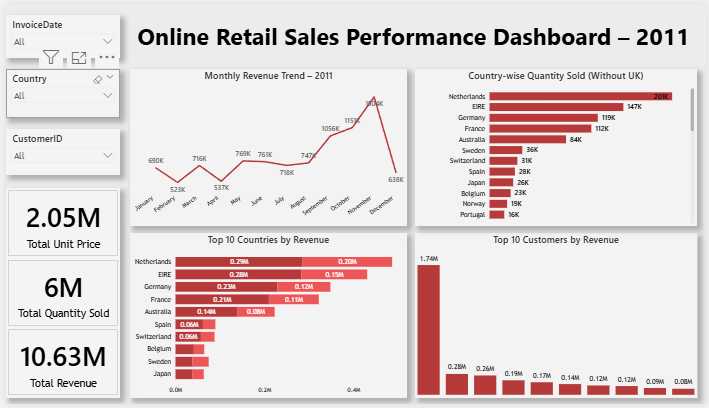

The dashboard page shown, as its layout file describes it:
{"tool":"powerbi","page":{"name":"Revenue & Customer Insights","canvas":[1400,800],"ordinal":0},"visuals":[{"type":"lineChart","title":"Monthly Revenue Trend – 2011","fields":{"Y":["Sum(Online Retail.Revenue)"],"Category":["Online Retail.InvoiceDate.Variation.Date Hierarchy.Year","Online Retail.InvoiceDate.Variation.Date Hierarchy.Quarter","Online Retail.InvoiceDate.Variation.Date Hierarchy.Month","Online Retail.InvoiceDate.Variation.Date Hierarchy.Day"]},"box":[247.8,130.3,554.4,314.2],"z":0},{"type":"shape","box":[247.8,0,1134.3,125.2],"z":1000},{"type":"barChart","title":"Top 10 Countries by Revenue","fields":{"Y":["Sum(Online Retail.Revenue)","Sum(Online Retail.Quantity)"],"Category":["Online Retail.Country"]},"box":[247.8,457.3,554.4,329.6],"z":2000},{"type":"clusteredColumnChart","title":"Top 10 Customers by Revenue","fields":{"Category":["Online Retail.CustomerID"],"Y":["Sum(Online Retail.Revenue)"]},"box":[817.5,457.3,564.6,329.6],"z":3000},{"type":"barChart","title":"Country-wise Quantity Sold (Without UK)","fields":{"Category":["Online Retail.Country"],"Y":["Sum(Online Retail.Quantity)"]},"box":[818,130,564,314],"z":4000},{"type":"slicer","fields":{"Values":["Online Retail.InvoiceDate"]},"box":[0,22,228,86],"z":5000},{"type":"slicer","fields":{"Values":["Online Retail.Country"]},"box":[0,130,228,98],"z":6000},{"type":"slicer","fields":{"Values":["Online Retail.CustomerID"]},"box":[0,250,228,92],"z":7000},{"type":"cardVisual","fields":{"Data":["Online Retail.Total Unit Price","Online Retail.Total Quantity Sold","Online Retail.Total Revenue"]},"box":[0,368,228,420],"z":8001}]}

Visuals, with their boxes in screenshot pixels (x1, y1, x2, y2), scaled from the page's 1400x800 canvas onto the 709x408 screenshot:
"Monthly Revenue Trend – 2011" lineChart: locate(125, 66, 406, 227)
shape: locate(125, 0, 700, 64)
"Top 10 Countries by Revenue" barChart: locate(125, 233, 406, 401)
"Top 10 Customers by Revenue" clusteredColumnChart: locate(414, 233, 700, 401)
"Country-wise Quantity Sold (Without UK)" barChart: locate(414, 66, 700, 226)
slicer - Online Retail.InvoiceDate: locate(0, 11, 115, 55)
slicer - Online Retail.Country: locate(0, 66, 115, 116)
slicer - Online Retail.CustomerID: locate(0, 128, 115, 174)
cardVisual - Online Retail.Total Unit Price x Online Retail.Total Quantity Sold: locate(0, 188, 115, 402)
